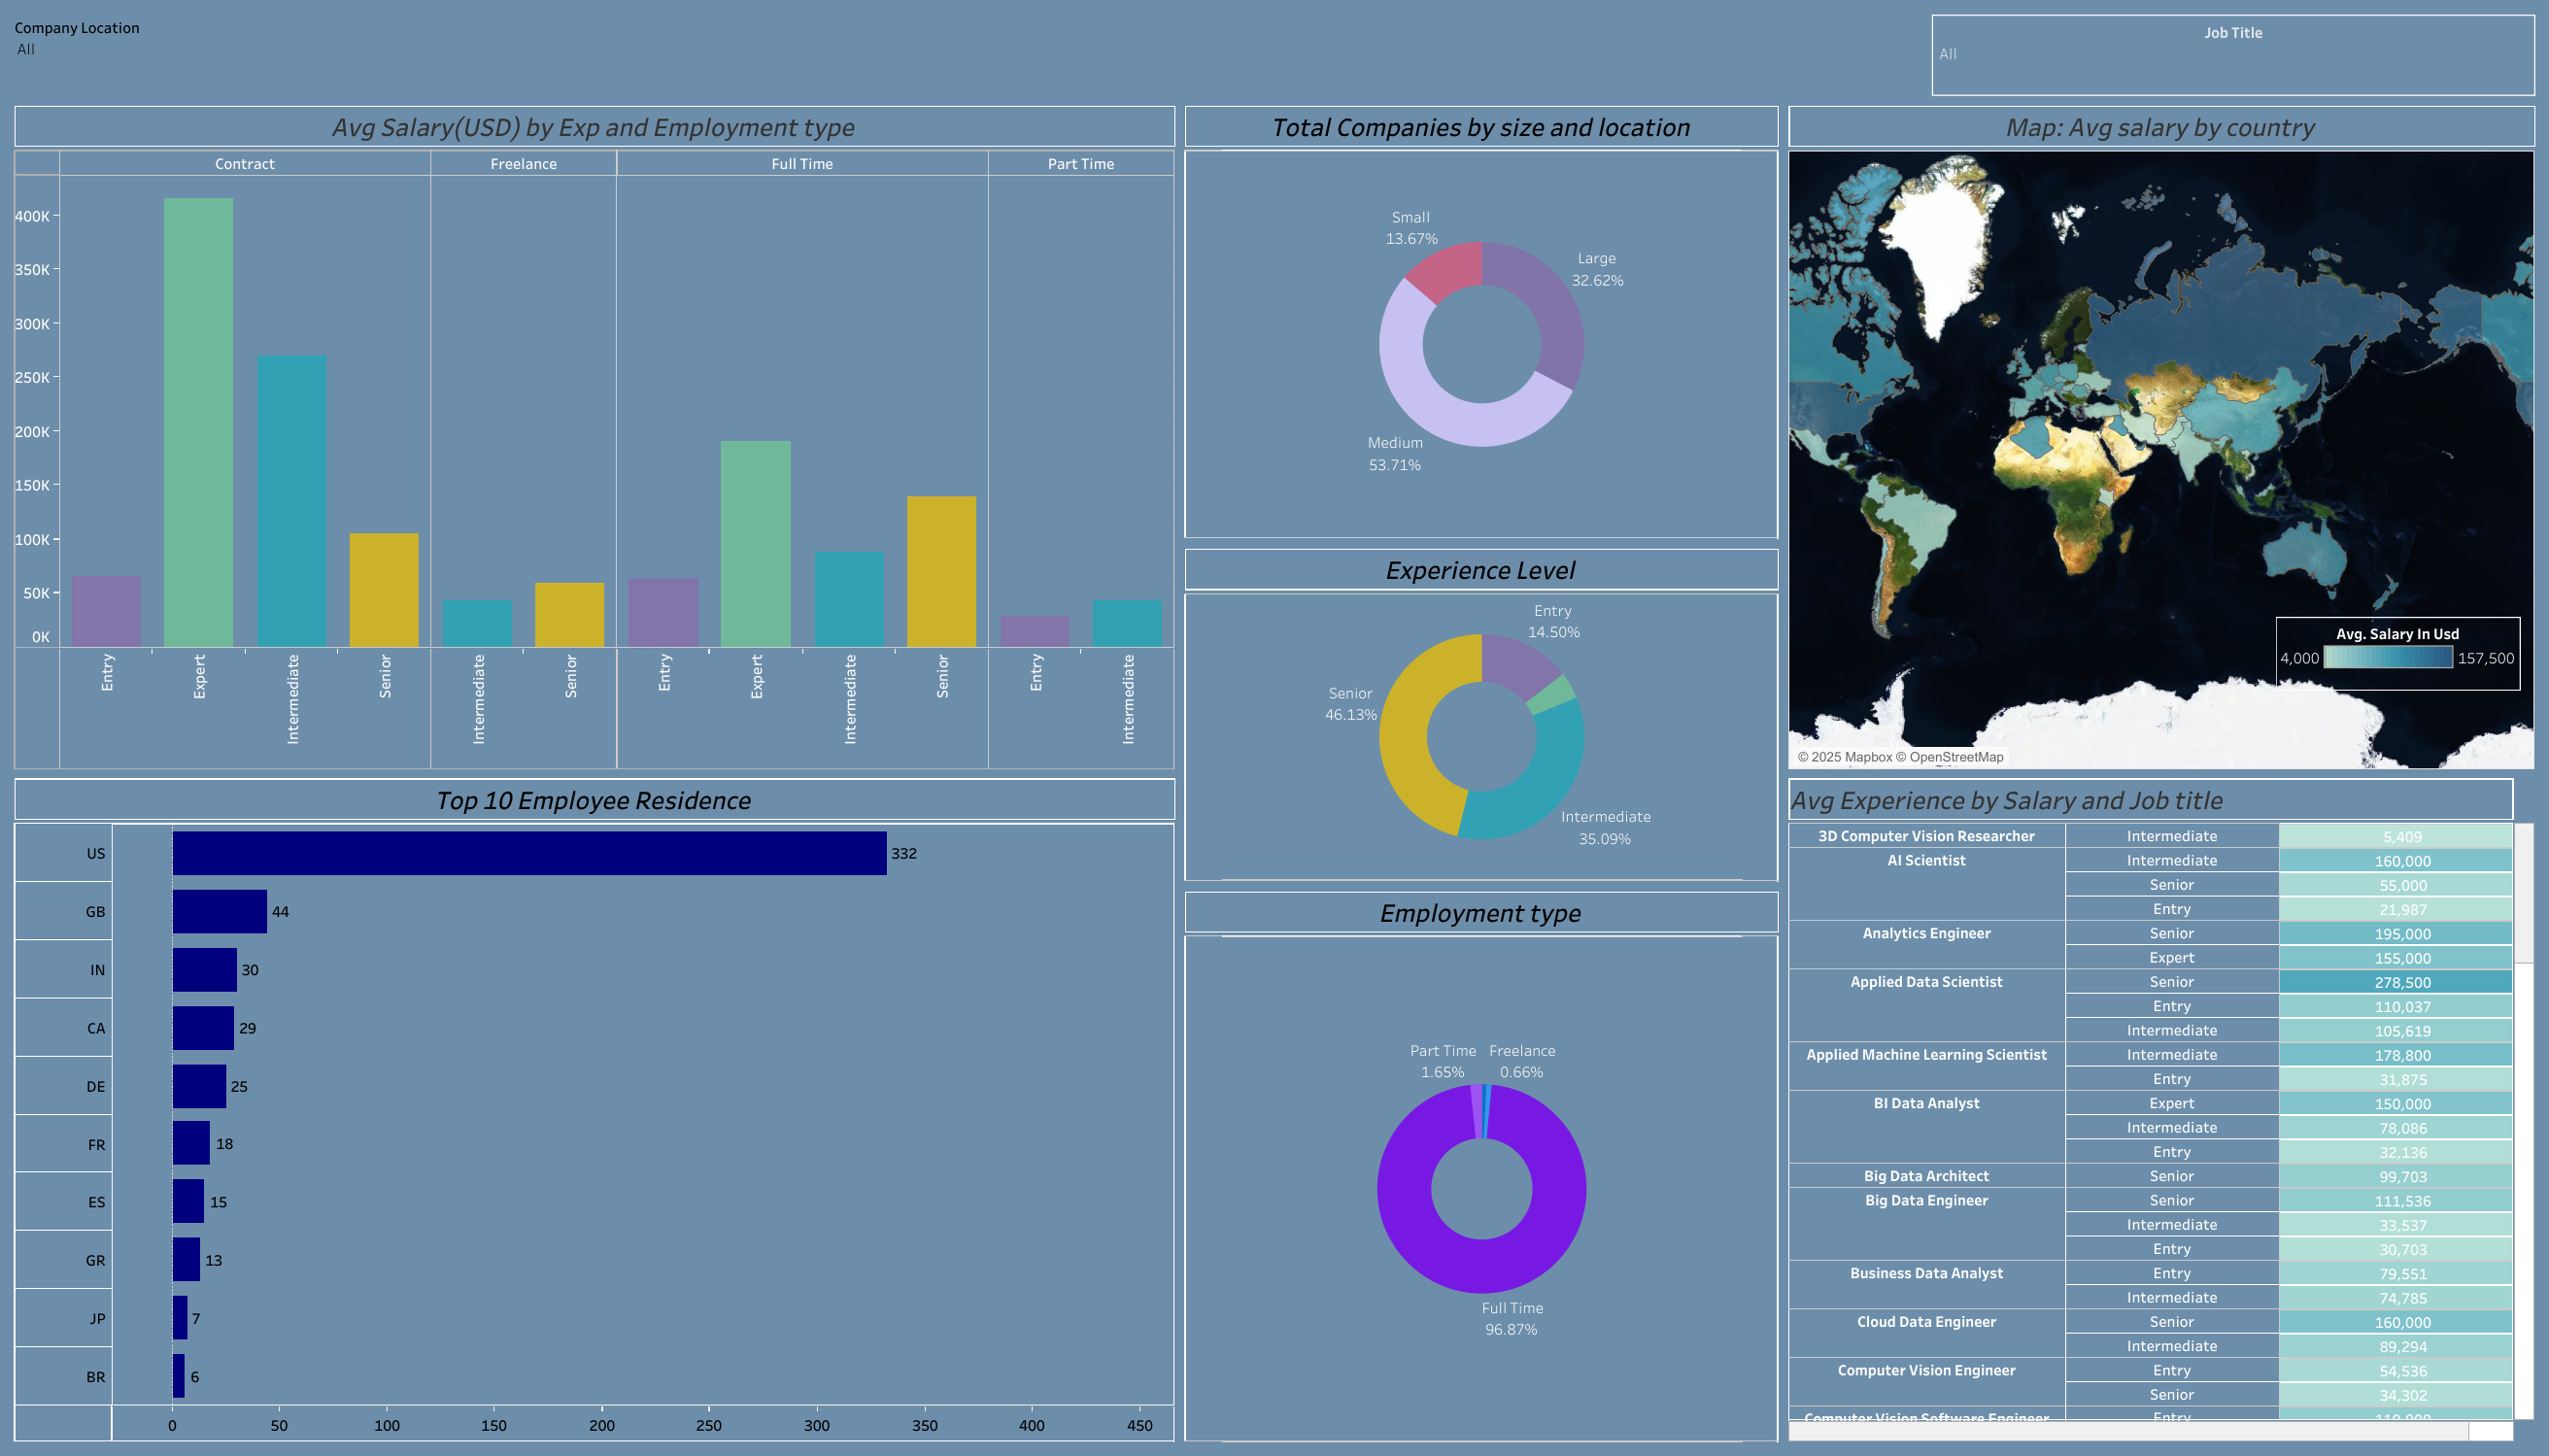

The dashboard page shown, as its layout file describes it:
{"tool":"tableau","page":{"name":"Dashboard 2","canvas":[2100,1200],"ordinal":0},"visuals":[{"type":"filter","title":"Avg Salary by Exp and job title","param":"[federated.0zmeavl1f00vw819utjht0pp83mj].[none:company_location:nk]","box":[8,8,1579,61]},{"type":"filter","title":"Map: Avg salary by country","param":"[federated.0zmeavl1f00vw819utjht0pp83mj].[none:job_title:nk]","box":[1587,8,505,75]},{"type":"worksheet","title":"AVG salary(USD) by Exp and Employment type ","mark":"Automatic","rows":["salary_in_usd"],"cols":["employment_type","experience_level"],"box":[8,83,964,554.5]},{"type":"worksheet","title":"Total companies by size and location (2)","mark":"Pie","rows":["Calculation_447263797027012609","Calculation_447263797027012609"],"box":[972,83,497,365]},{"type":"worksheet","title":"Map: Avg salary by country","mark":"Automatic","box":[1469,83,623,554.5]},{"type":"worksheet","title":"Experience Level","mark":"Pie","rows":["Calculation_447263797027012609","Calculation_447263797027012609"],"box":[972,448,497,282]},{"type":"legend","title":"Map: Avg salary by country","param":"[federated.0zmeavl1f00vw819utjht0pp83mj].[avg:salary_in_usd:qk]","box":[1874,508,202,88]},{"type":"worksheet","title":"Top 10 employee residence","mark":"Automatic","rows":["employee_residence"],"cols":["employee_residence"],"box":[8,637.5,964,554.5]},{"type":"worksheet","title":"Avg Salary by Exp and job title","mark":"Square","rows":["job_title","experience_level"],"box":[1469,637.5,623,554.5]},{"type":"worksheet","title":"Employment type","mark":"Pie","rows":["Calculation_447263797027012609","Calculation_447263797027012609"],"box":[972,730,497,462]}]}

Visuals, with their boxes in screenshot pixels (x1, y1, x2, y2), scaled from the page's 2100x1200 canvas onto the 2549x1456 screenshot:
"Avg Salary by Exp and job title" filter: 10, 10, 1926, 84
"Map: Avg salary by country" filter: 1926, 10, 2539, 101
"AVG salary(USD) by Exp and Employment type " worksheet: 10, 101, 1180, 773
"Total companies by size and location (2)" worksheet (Pie marks): 1180, 101, 1784, 544
"Map: Avg salary by country" worksheet: 1784, 101, 2539, 773
"Experience Level" worksheet (Pie marks): 1180, 544, 1784, 886
"Map: Avg salary by country" legend: 2275, 617, 2520, 724
"Top 10 employee residence" worksheet: 10, 773, 1180, 1446
"Avg Salary by Exp and job title" worksheet (Square marks): 1784, 773, 2539, 1446
"Employment type" worksheet (Pie marks): 1180, 886, 1784, 1446
